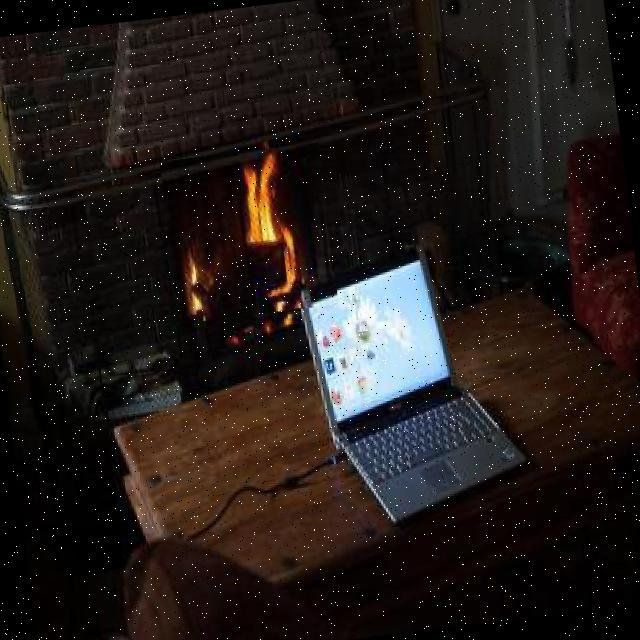fire: (160, 142, 338, 323)
